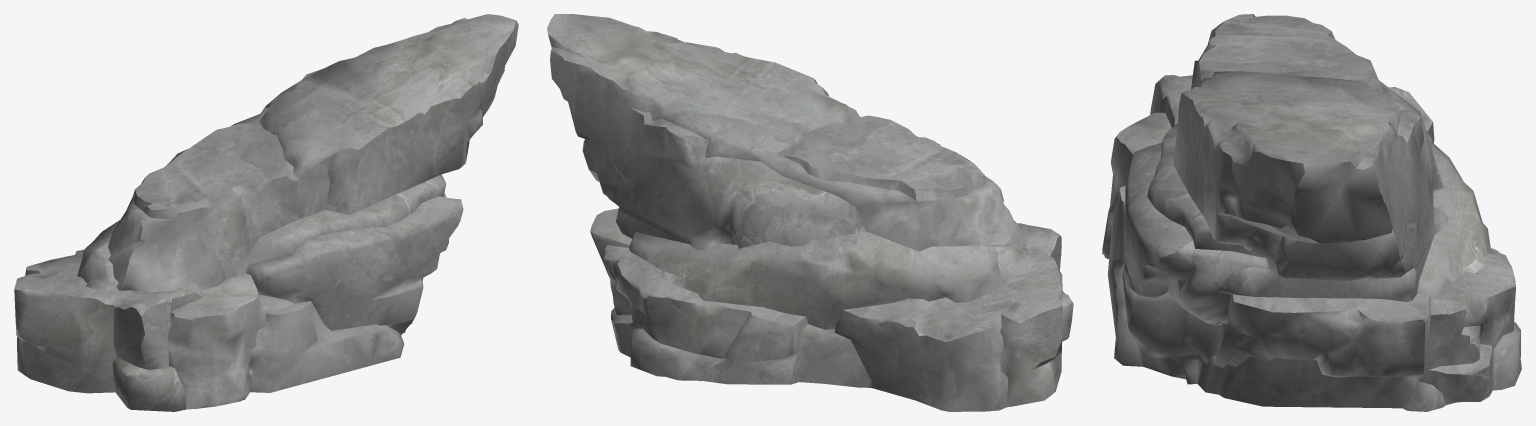
Rendered from SM_Com_Roc_10AM.fbx.
3 renders of one model, left to right at view 1: azimuth 30°, elevation 25°; view 2: azimuth 150°, elevation 25°; view 3: azimuth 270°, elevation 25°, orthographic. The views are drawn at different scales.
Parts seen in each view (by area): view 1: SM_Com_Roc_10AM.mo; view 2: SM_Com_Roc_10AM.mo; view 3: SM_Com_Roc_10AM.mo.
Boxes of the visible parts, bbox=[...] form: SM_Com_Roc_10AM.mo: bbox=[14, 14, 518, 411]; SM_Com_Roc_10AM.mo: bbox=[547, 14, 1073, 411]; SM_Com_Roc_10AM.mo: bbox=[1102, 14, 1521, 411].
Bounding box in the file's own units: 66.58 × 31.21 × 36.77.
